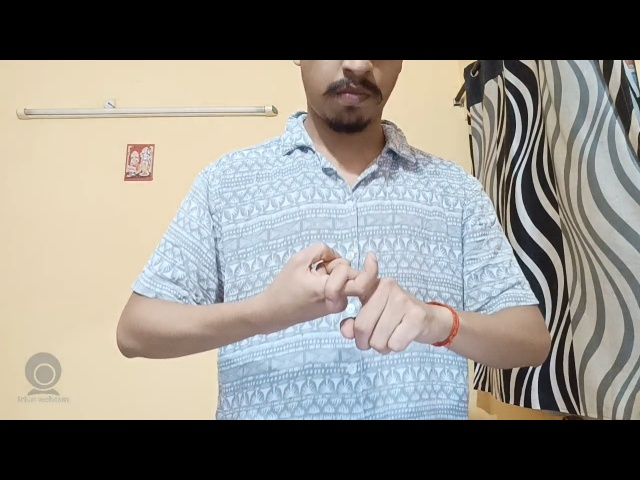Friend: (248, 217, 455, 380)
